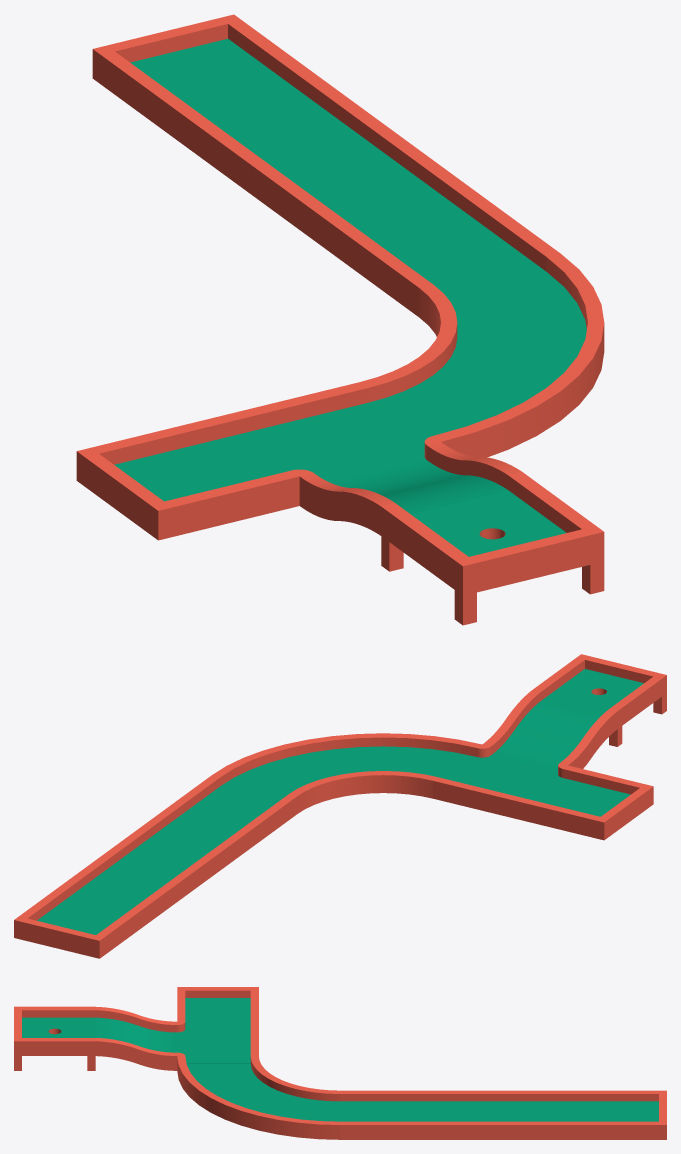
The picture shows the model from 3 angles, top to bottom: view 1: azimuth 30°, elevation 25°; view 2: azimuth 150°, elevation 25°; view 3: azimuth 270°, elevation 25°; orthographic projection. The views are drawn at different scales.
Parts seen in each view (by area): view 1: mergedBlocks; view 2: mergedBlocks; view 3: mergedBlocks.
Boxes of the visible parts, box(x1,y1,x2,y2) form: mergedBlocks: box(76, 14, 604, 625); mergedBlocks: box(14, 654, 666, 958); mergedBlocks: box(14, 987, 666, 1139).
Size of the model in its own units: 40 by 4 by 80.
